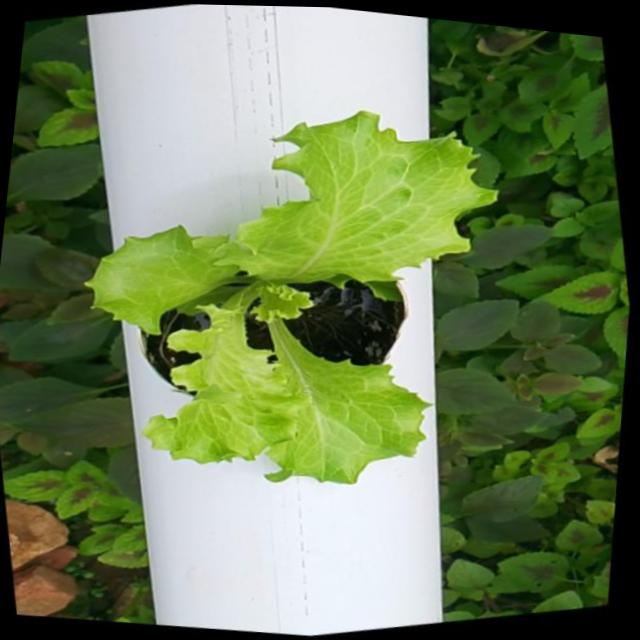Baby: (66, 115, 472, 481)
